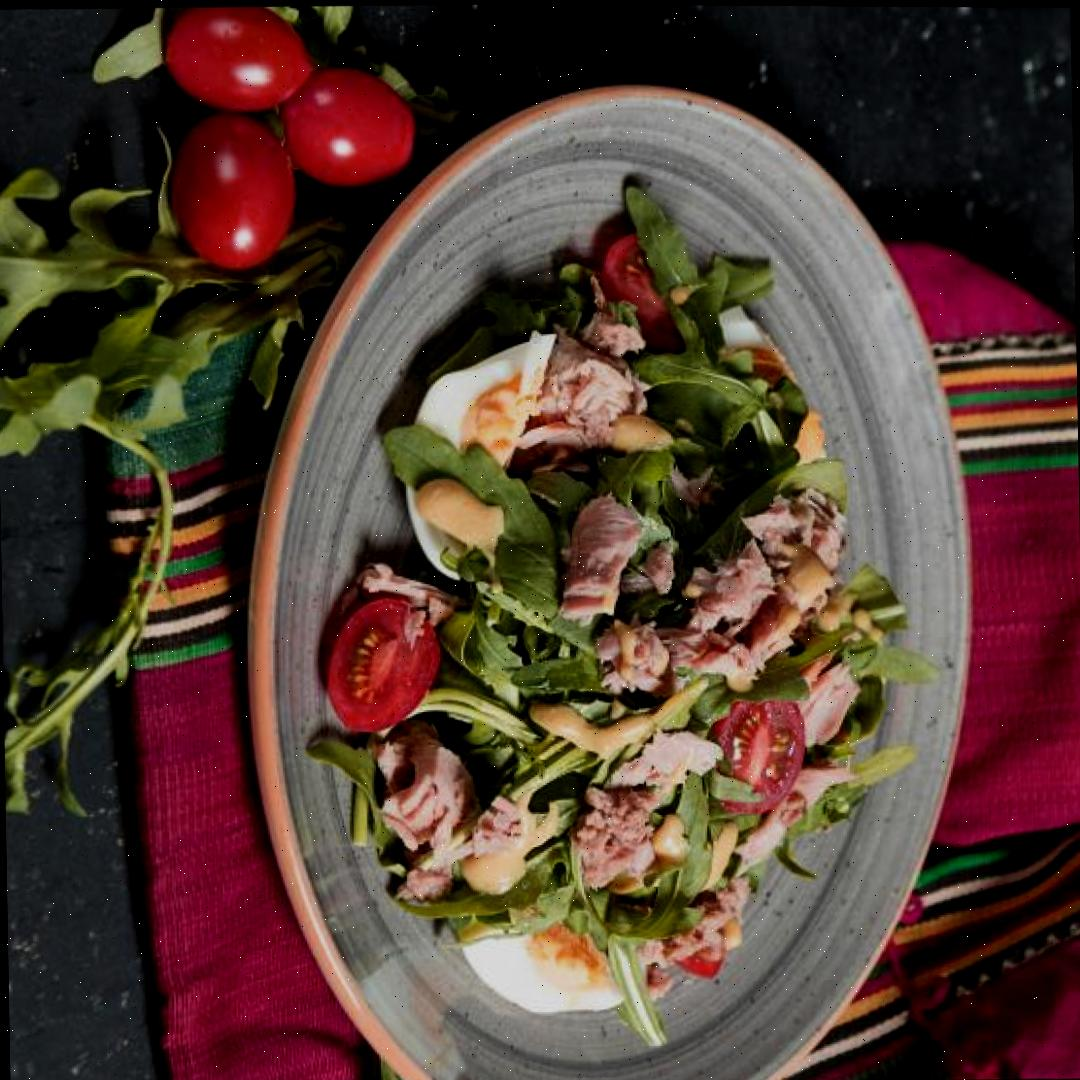matang: (168, 111, 296, 275), (275, 65, 417, 192), (160, 5, 312, 118), (326, 593, 440, 734), (704, 685, 805, 815)
